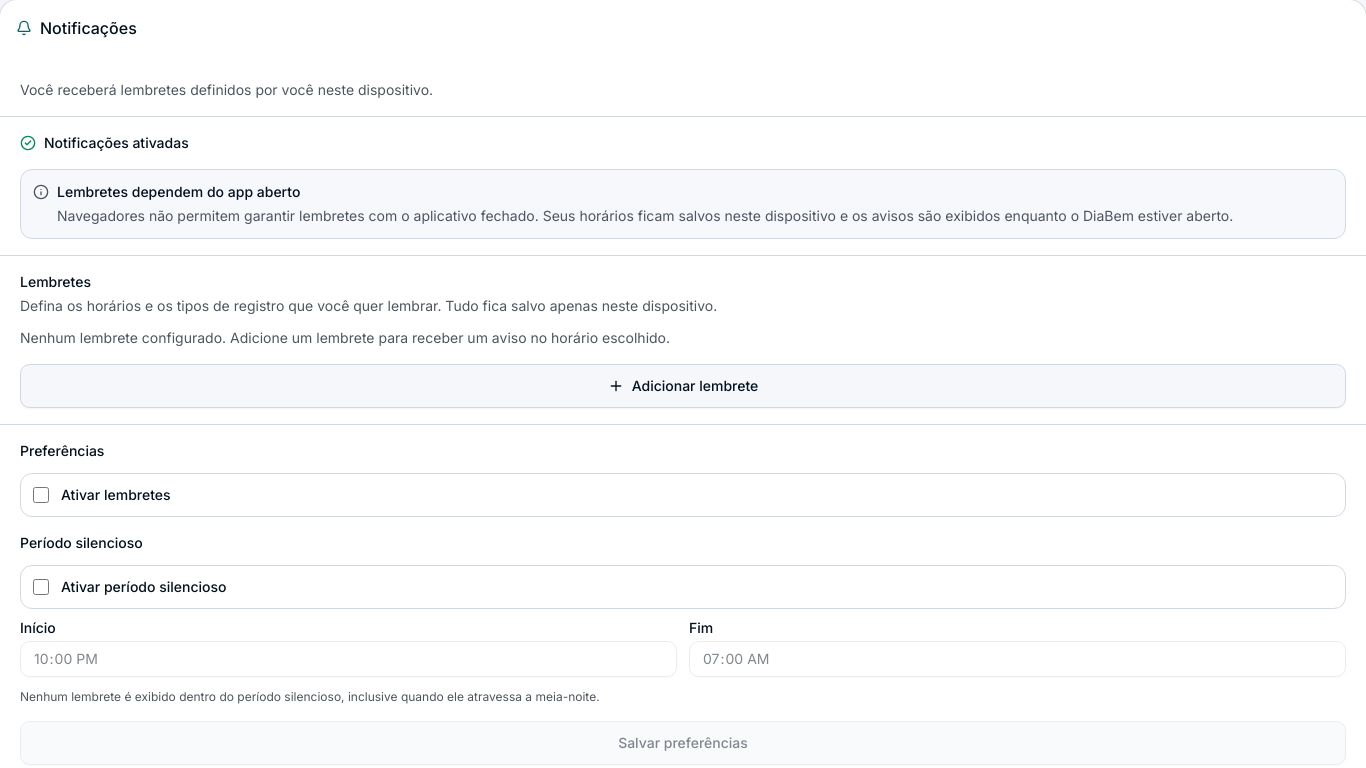
Scenario: NotificationSettingsCard › only enables the save button once the draft changes
Check: the button "Salvar preferências" is disabled, box [20,721,1346,765]
Click the checkbox labelled "Ativar lembretes". click: x=41, y=495
box: [33,487,49,503]
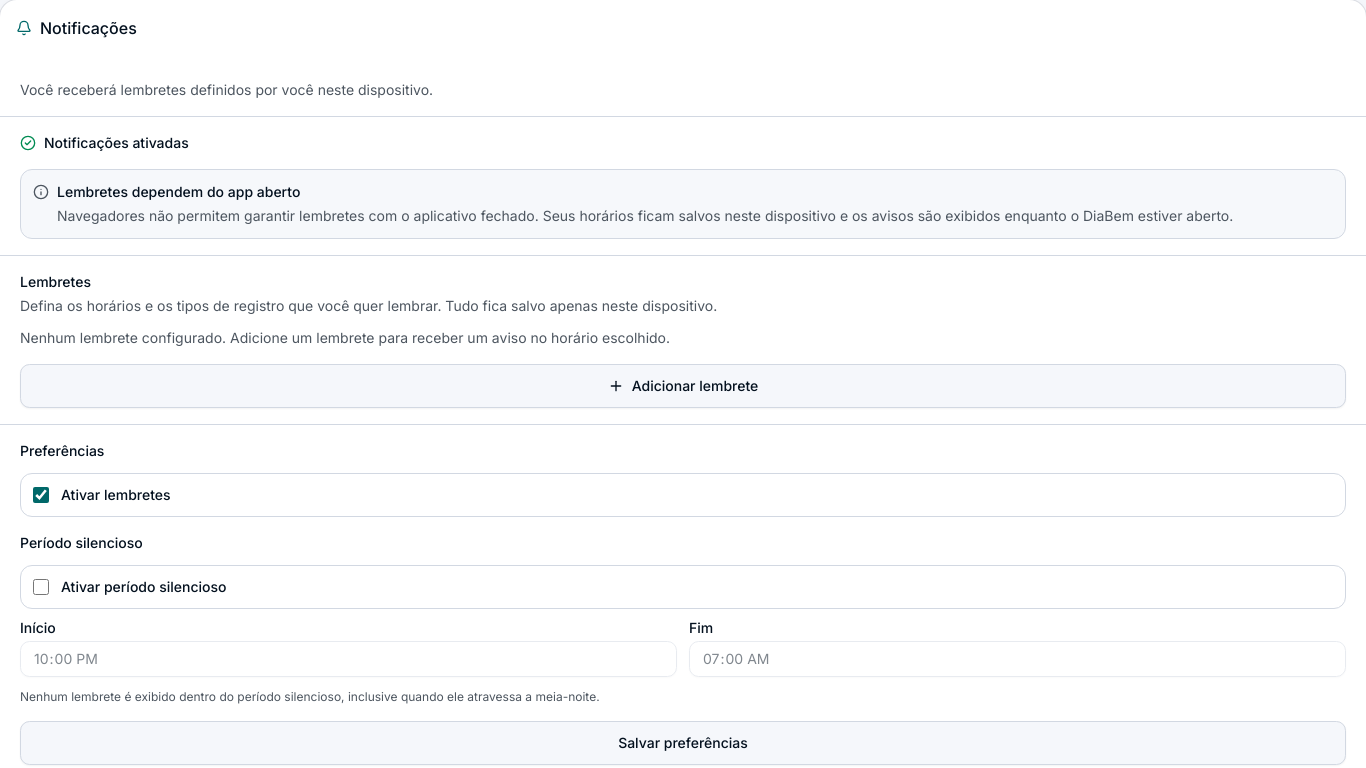
Check: the button "Salvar preferências" is enabled, box [20,721,1346,765]
